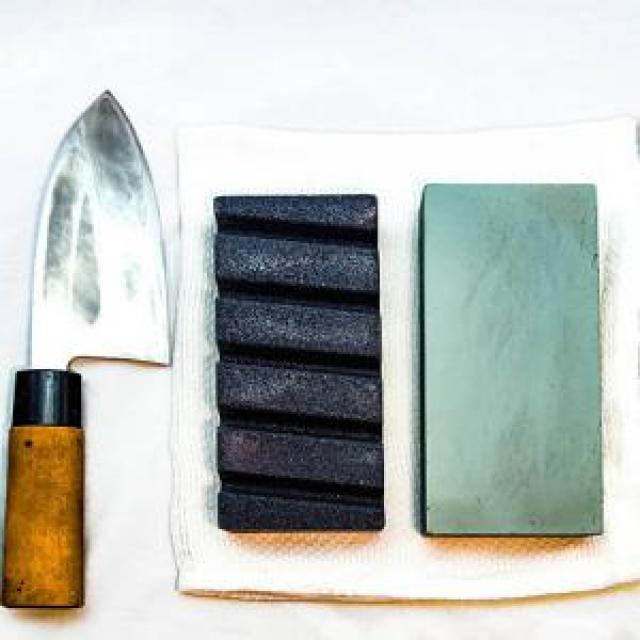knife: (0, 83, 175, 609)
